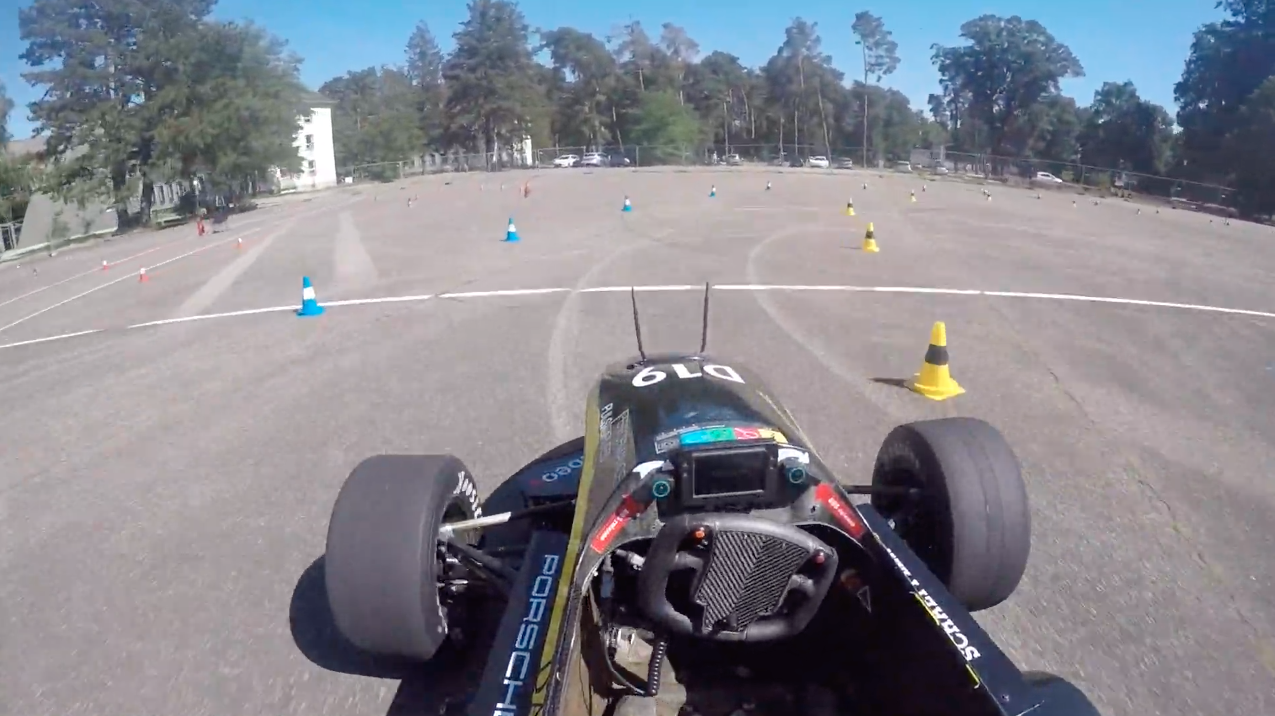lcone: (293, 274, 330, 321), (501, 216, 524, 245)
rcone: (900, 317, 969, 402), (858, 220, 884, 255)
